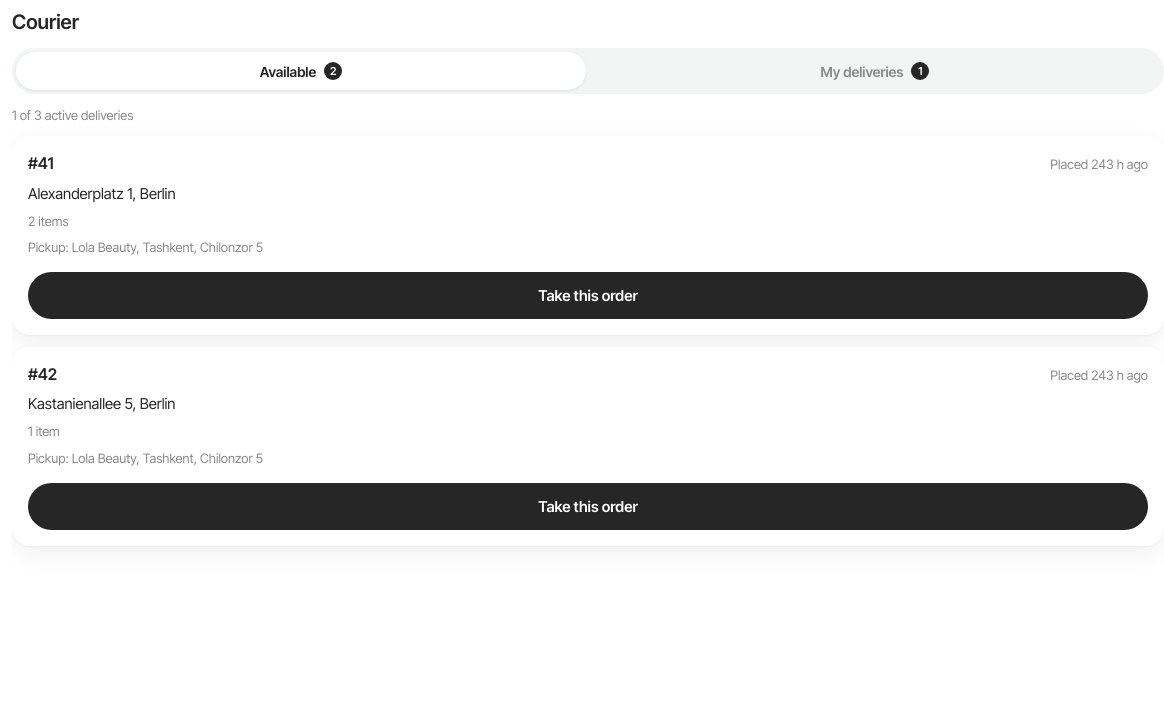
CourierScreen: tabs › opens on the pool by default and remembers the tab in the URL
Click the tab "My deliveries 1" at (875, 71), box [590, 52, 1160, 90]
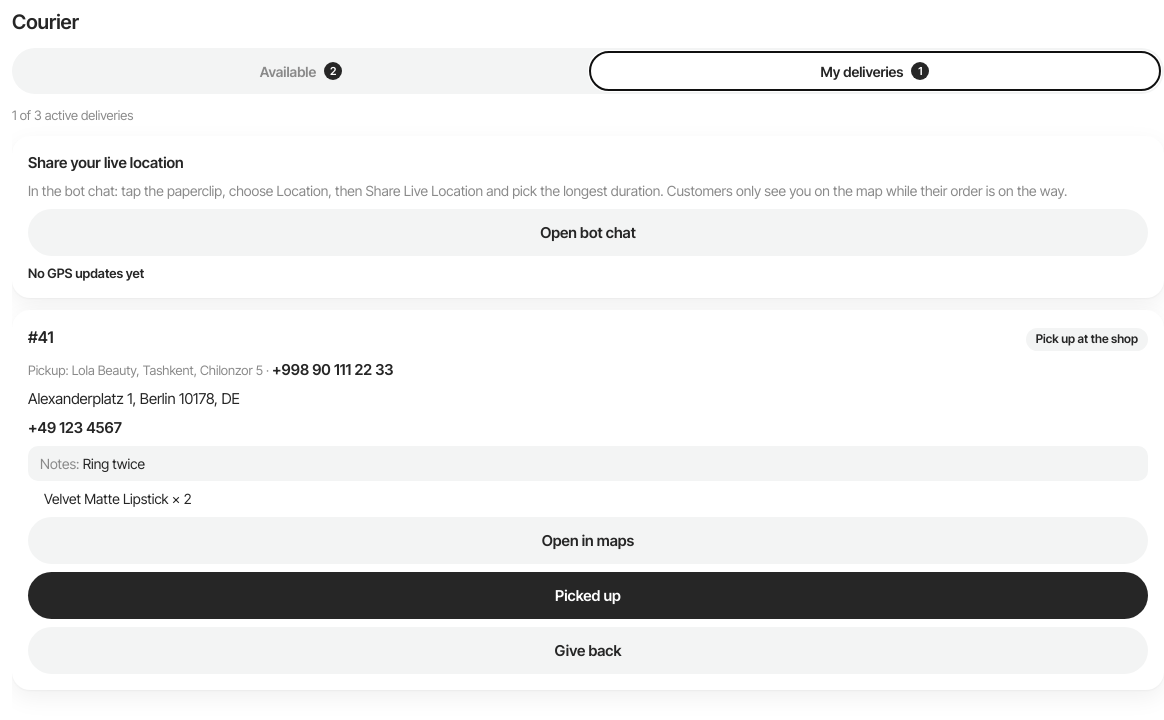
Expected: the text "Pick up at the shop" is shown, [1026, 328, 1148, 351]
